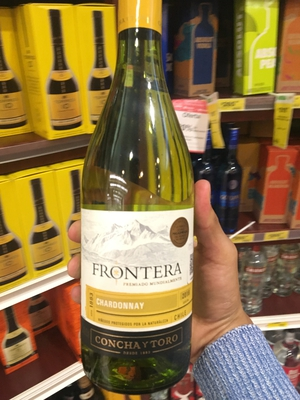frontera chardonnay: (66, 10, 208, 385)
